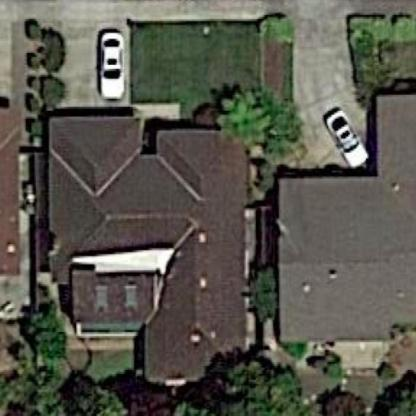car: (319, 102, 372, 173), (92, 22, 132, 106)
